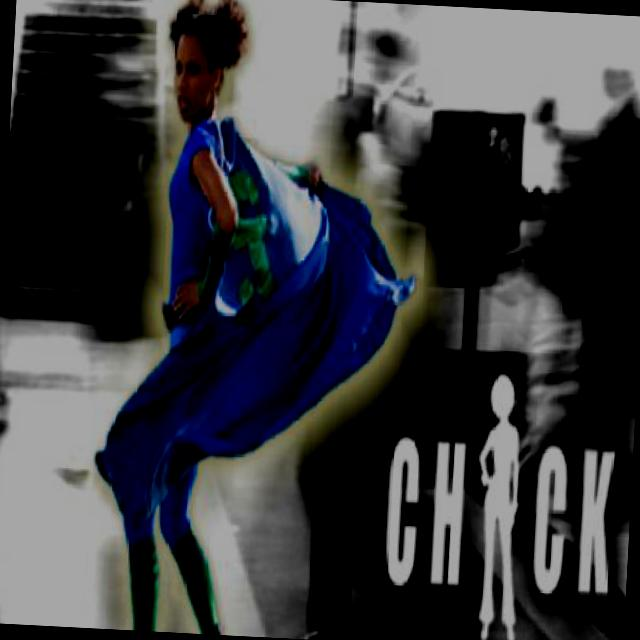Person: (85, 0, 429, 640), (469, 369, 532, 640)
